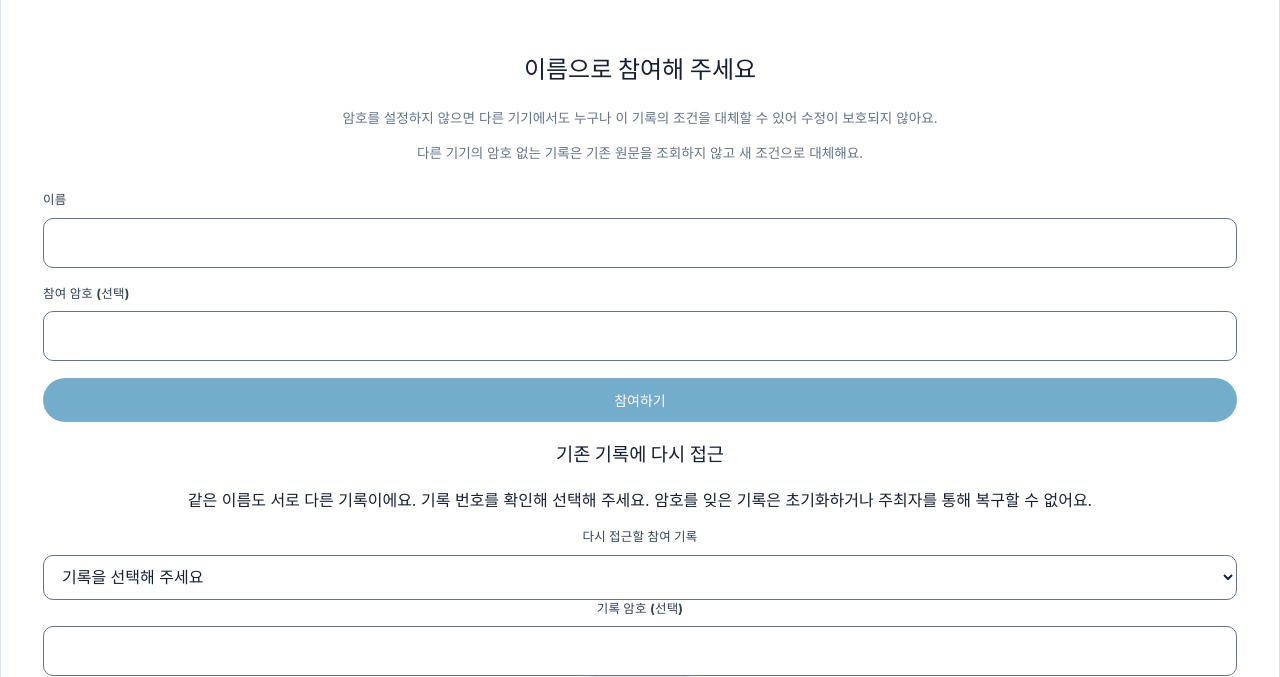
Test case: EX-PRIVACY tells a blind V2 replacement writer about host disclosure before saving
Select "합성 참여자 · synthetic-participant" in the dropdown labelled "다시 접근할 참여 기록" at (640, 577), box [43,555,1237,600]
(page scrolled)
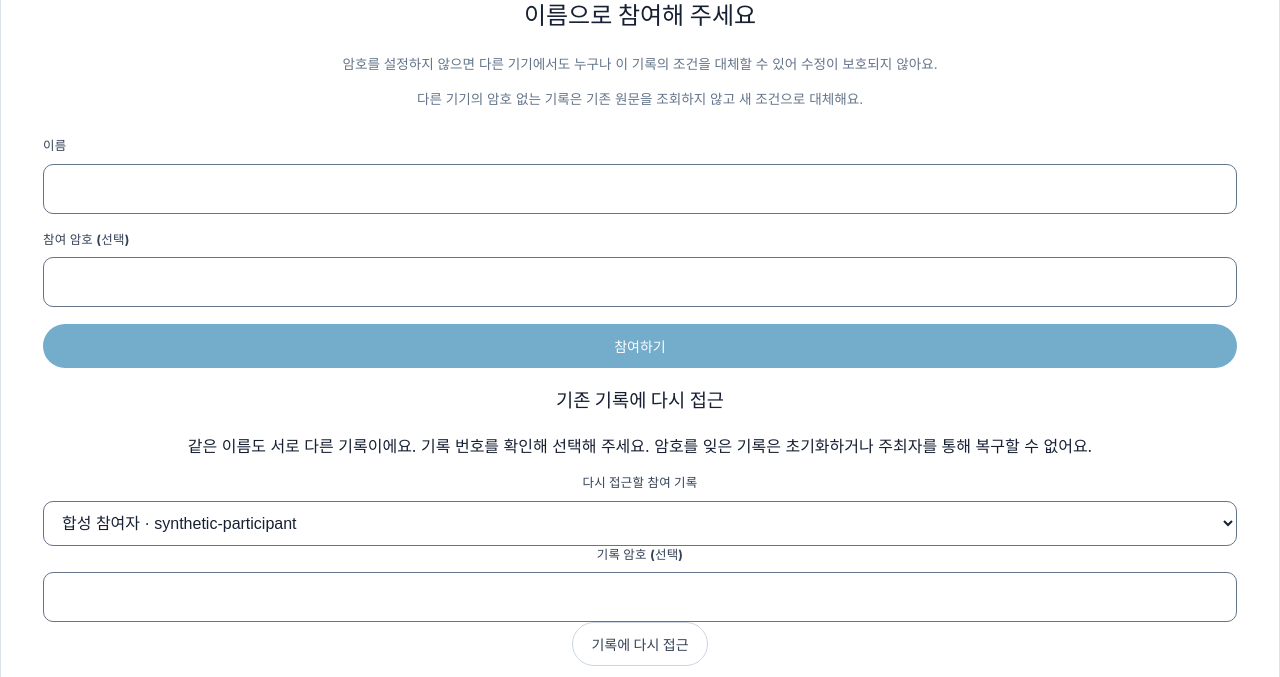
Click the button "기록에 다시 접근" at (640, 644), box [572,622,708,666]
(page scrolled)
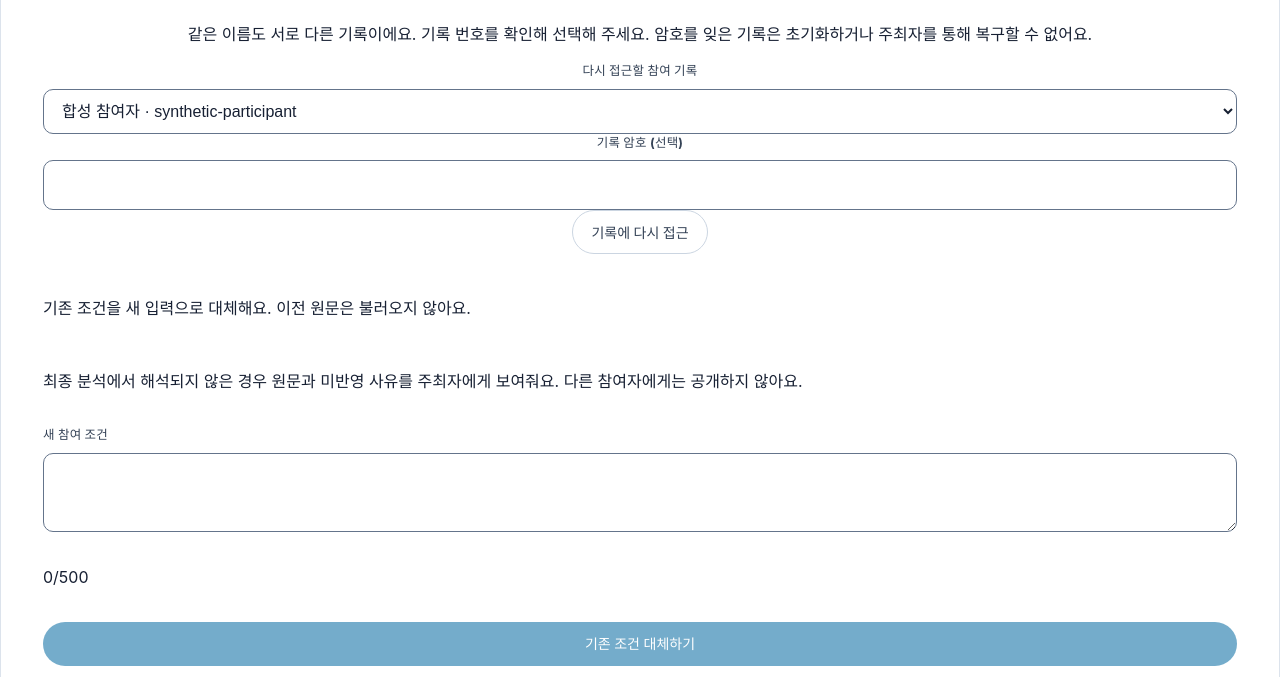
expect the text box labelled "새 참여 조건" is shown: met, box [43,453,1237,532]
expect the text "해석되지 않은 경우 원문과 미반영 사유를 주최자" is shown: met, box [43,371,803,391]
